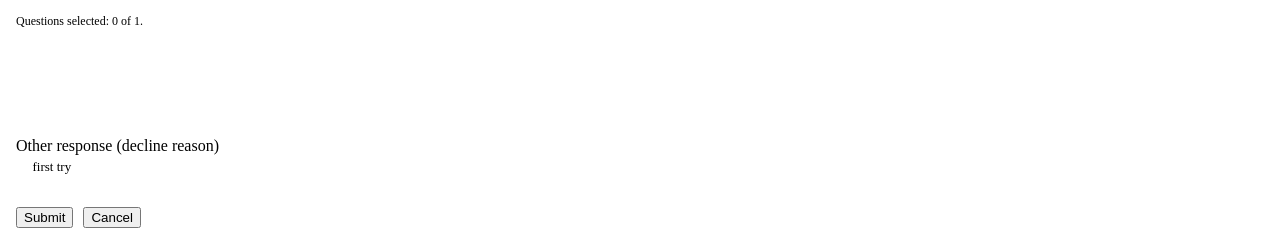
Test: Other Enter preserves IME guards and a recovered old result cannot unlock a new answer
Earlier steps of the test are not shown.
Replace the text in the field labelled "Other response (decline reason)" with "  second try  ": (632,167) [16,159,1248,175]
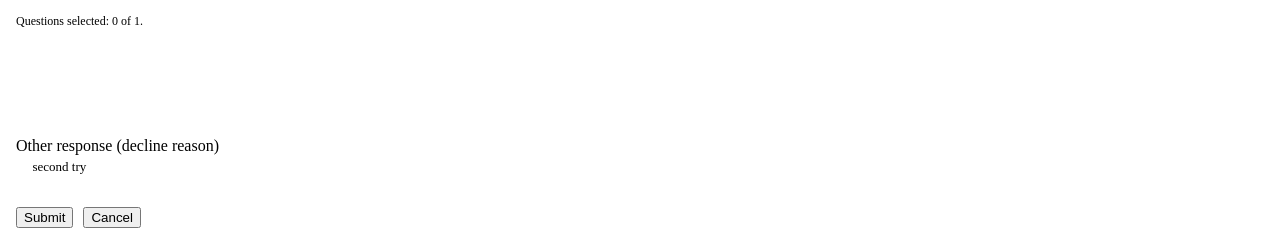
Click the button "Submit": (45,218) [16,207,74,228]
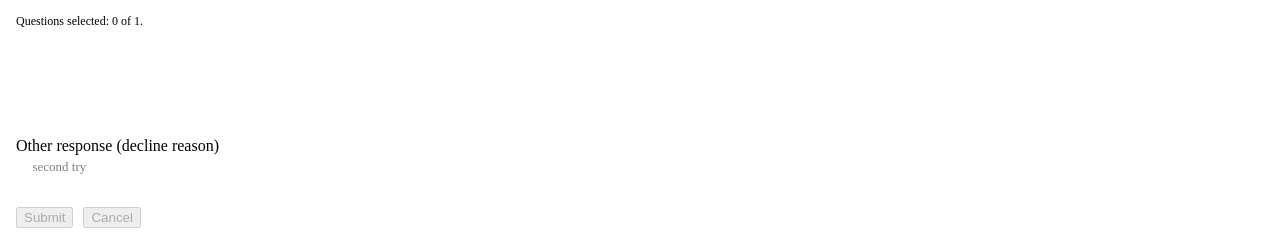
Expected: the field labelled "Other response (decline reason)" is disabled, [16,159,1248,175]
Expected: the button "Cancel" is disabled, [84,207,141,228]
